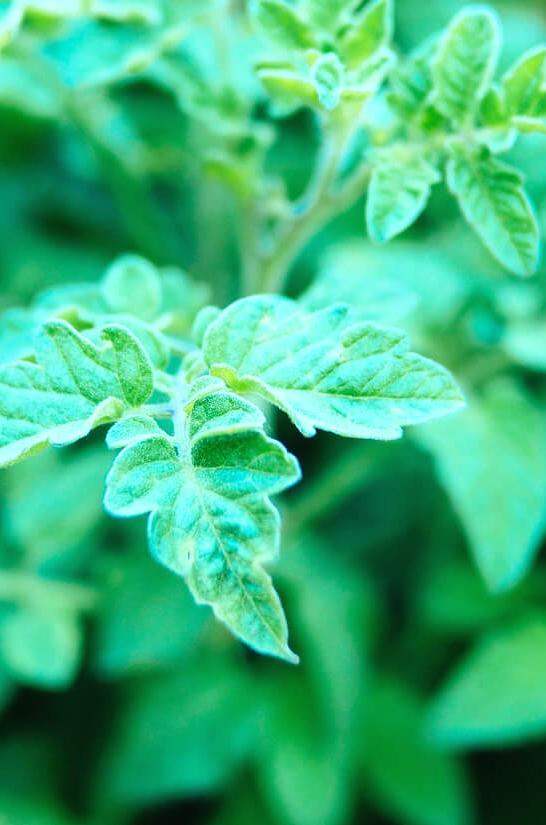Tomato leaf: (128, 365, 326, 693), (186, 292, 460, 459), (0, 282, 188, 516)
